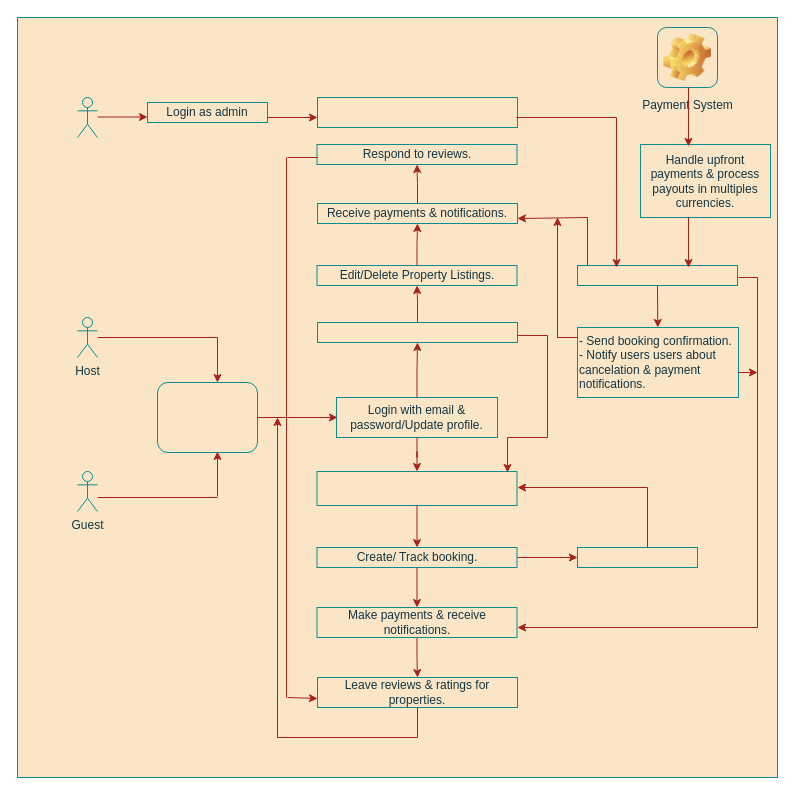
The diagram is 795 pixels wide and 795 high, and some of its shapes have lost their labels. Here are the shapes that lost their labels. From the top down, the box of each, then its label:
(76, 96, 98, 138): Admin
(316, 96, 518, 128): Manage users. listings & other admins.
(576, 264, 738, 286): Overview & monitor payments.
(316, 322, 518, 342): Add Property Listings.
(156, 382, 258, 452): User Sign up: Guest Host
(316, 470, 517, 506): Search & filter properties based on location, price, amenities.
(576, 546, 698, 568): Cancel booking.
